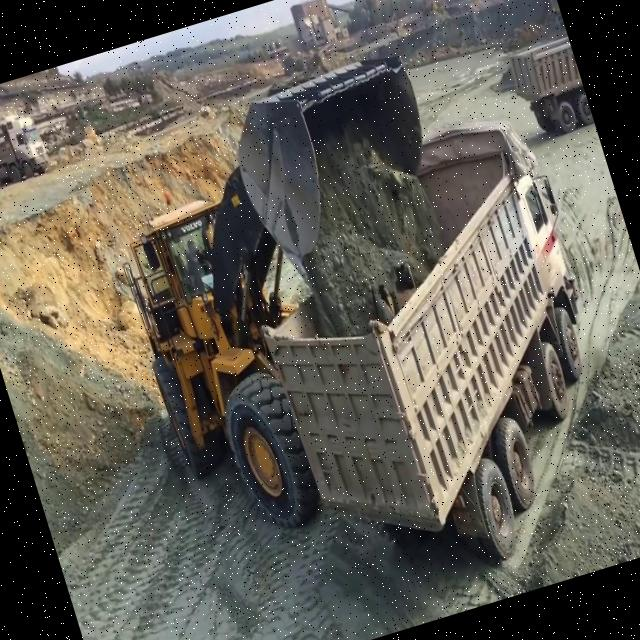Dump Truck: (219, 100, 640, 609), (504, 29, 594, 138), (0, 100, 57, 196)
Loader: (75, 38, 542, 569)
